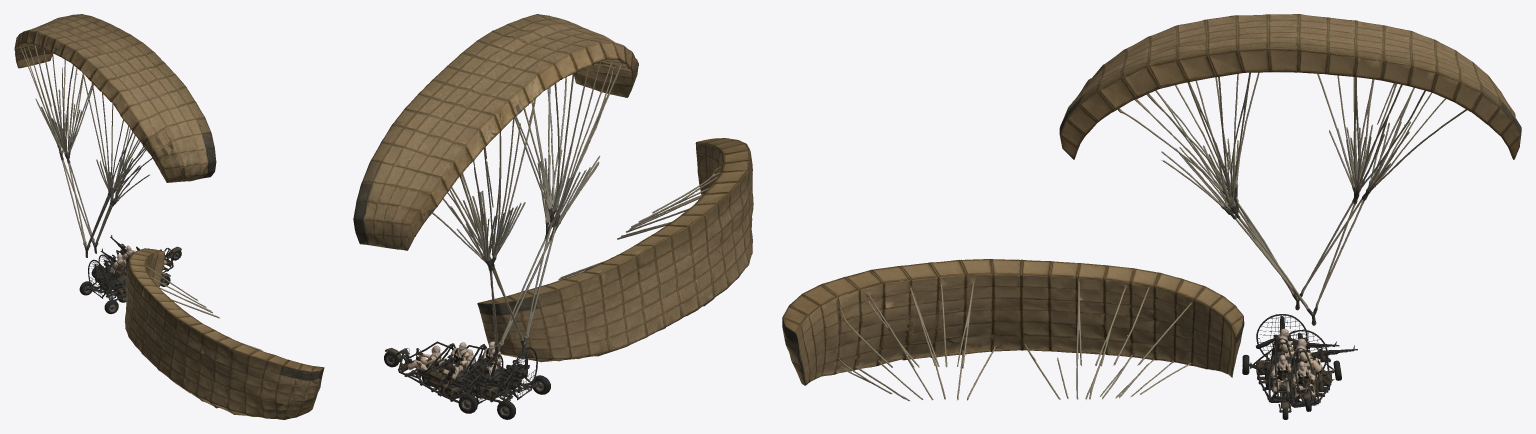
The model's file is paramotor.glb.
The picture shows the model from 3 angles, left to right: view 1: azimuth 30°, elevation 25°; view 2: azimuth 150°, elevation 25°; view 3: azimuth 270°, elevation 25°; orthographic projection. The views are drawn at different scales.
Visible parts, largest first — view 1: hull_hull, WRECK_hull_hull, WRECK_rigging_cut, rigging_cut, frame_cut, WRECK_frame_cut, hull_rubber; view 2: hull_hull, WRECK_hull_hull, WRECK_rigging_cut, rigging_cut, WRECK_frame_cut, frame_cut, WRECK_hull_rubber, hull_rubber; view 3: WRECK_hull_hull, hull_hull, WRECK_rigging_cut, rigging_cut, frame_cut, WRECK_frame_cut.
Boxes of the visible parts, x1,y1,x2,y2 form: hull_hull: (14, 14, 216, 182); WRECK_hull_hull: (124, 248, 324, 419); WRECK_rigging_cut: (35, 89, 149, 253); rigging_cut: (40, 92, 151, 257); frame_cut: (88, 248, 162, 300); WRECK_frame_cut: (98, 235, 173, 290); hull_rubber: (79, 273, 170, 313); hull_hull: (353, 14, 638, 250); WRECK_hull_hull: (477, 138, 753, 362); WRECK_rigging_cut: (450, 146, 600, 361); rigging_cut: (436, 128, 590, 355); WRECK_frame_cut: (398, 341, 503, 404); frame_cut: (460, 341, 537, 402); WRECK_hull_rubber: (384, 348, 507, 413); hull_rubber: (421, 375, 550, 419); WRECK_hull_hull: (782, 259, 1244, 400); hull_hull: (1059, 14, 1521, 159); WRECK_rigging_cut: (1161, 121, 1410, 325); rigging_cut: (1168, 124, 1418, 310); frame_cut: (1253, 314, 1339, 402); WRECK_frame_cut: (1282, 329, 1357, 407).
Bounding box in the file's own units: 1.3 × 2.51 × 4.76.
2 materials, 2 textured.
